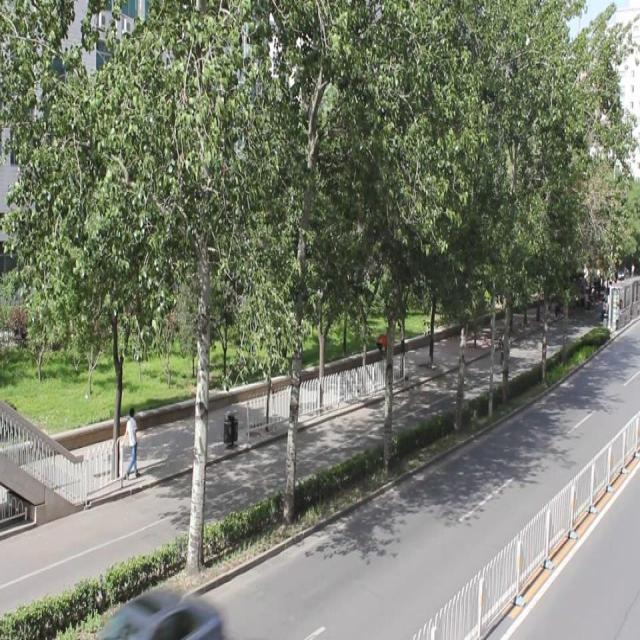car: (102, 582, 220, 640)
